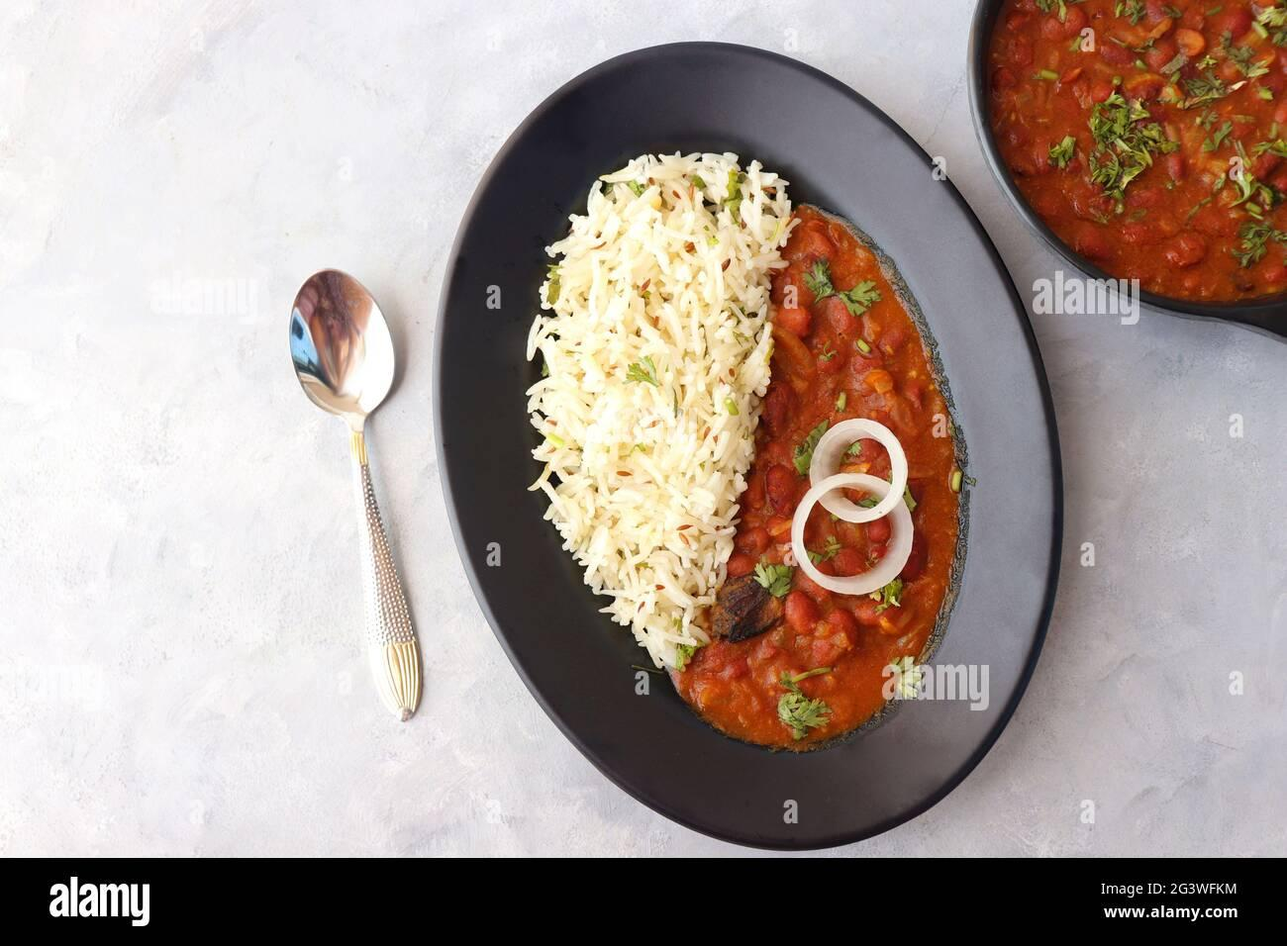rajma: (799, 289, 965, 745)
rice: (554, 134, 730, 623)
